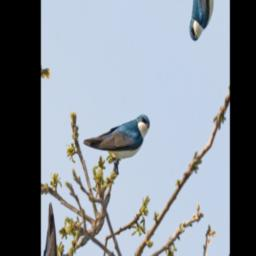Swallow: (80, 67, 156, 199)
